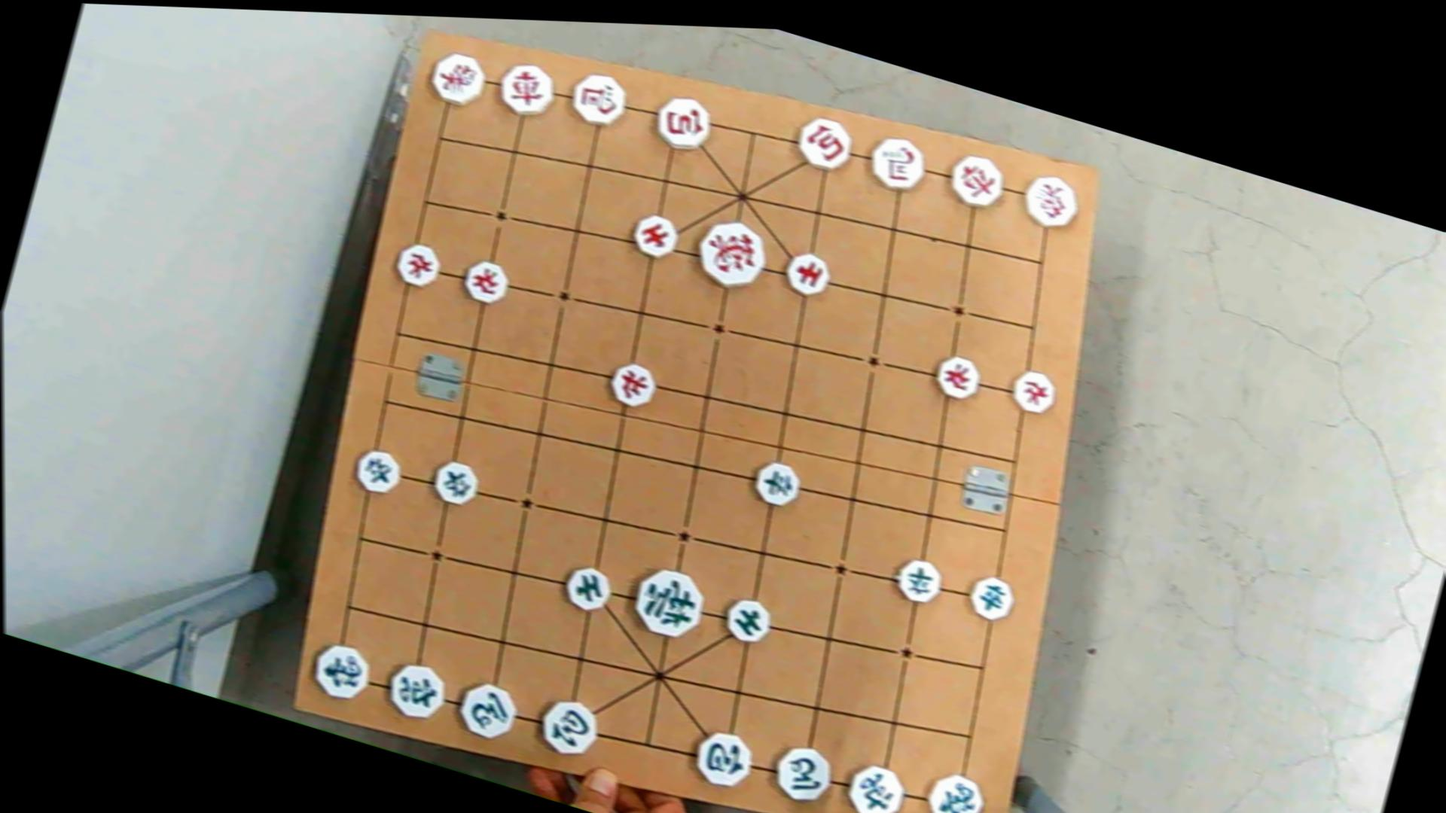cha_green: (381, 656, 450, 721), (844, 758, 912, 813)
cha_red: (943, 151, 1011, 212), (492, 59, 559, 120)
jol_green: (426, 458, 483, 510), (749, 460, 806, 511), (891, 556, 947, 607), (965, 574, 1020, 625), (351, 447, 405, 498)
jol_red: (606, 360, 663, 409), (395, 239, 448, 290), (932, 352, 986, 402), (459, 257, 514, 306), (1006, 368, 1061, 416)
ma_green: (770, 742, 840, 808), (450, 680, 520, 744)
ma_red: (862, 133, 930, 196), (563, 67, 629, 127)
po_green: (689, 726, 759, 793), (535, 694, 605, 759)
po_red: (790, 113, 859, 174), (651, 92, 718, 154)
sa_green: (719, 593, 777, 644), (557, 563, 615, 614)
sa_red: (778, 247, 837, 303), (627, 212, 683, 261)
sang_green: (310, 638, 377, 702), (921, 767, 991, 813)
sang_red: (422, 44, 489, 107), (1014, 170, 1081, 232)
wang_green: (627, 565, 710, 643)
wang_red: (687, 212, 771, 295)
